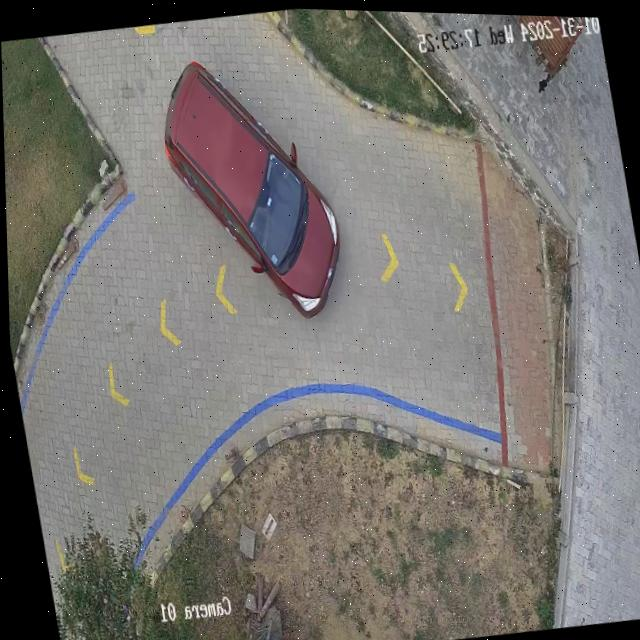car: (163, 60, 341, 316)
